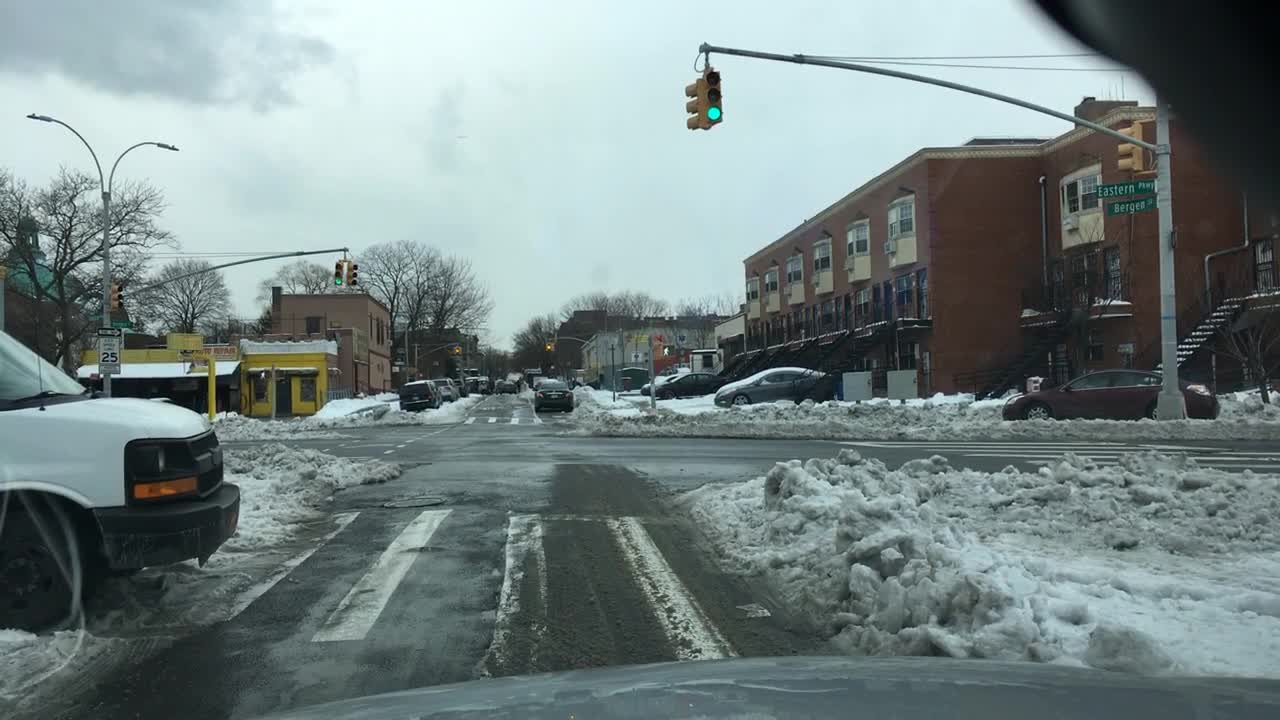car: (0, 325, 241, 632), (1002, 366, 1220, 423), (713, 365, 841, 405), (637, 366, 728, 398), (533, 378, 576, 415), (397, 379, 439, 412), (431, 375, 457, 401), (495, 376, 519, 397), (451, 372, 470, 396), (532, 375, 560, 388), (505, 369, 525, 385), (463, 373, 479, 393), (478, 372, 491, 393)
traffic light: (1113, 124, 1145, 170), (702, 70, 721, 126), (685, 80, 702, 129), (109, 282, 124, 309), (347, 260, 359, 290), (332, 258, 342, 285), (543, 339, 555, 351), (257, 369, 269, 380), (450, 344, 459, 356)
traffic sign: (1096, 178, 1161, 195), (96, 333, 121, 364), (1105, 197, 1155, 212), (96, 364, 122, 376), (96, 327, 125, 336), (664, 342, 676, 356), (648, 332, 661, 344), (110, 320, 131, 327)
